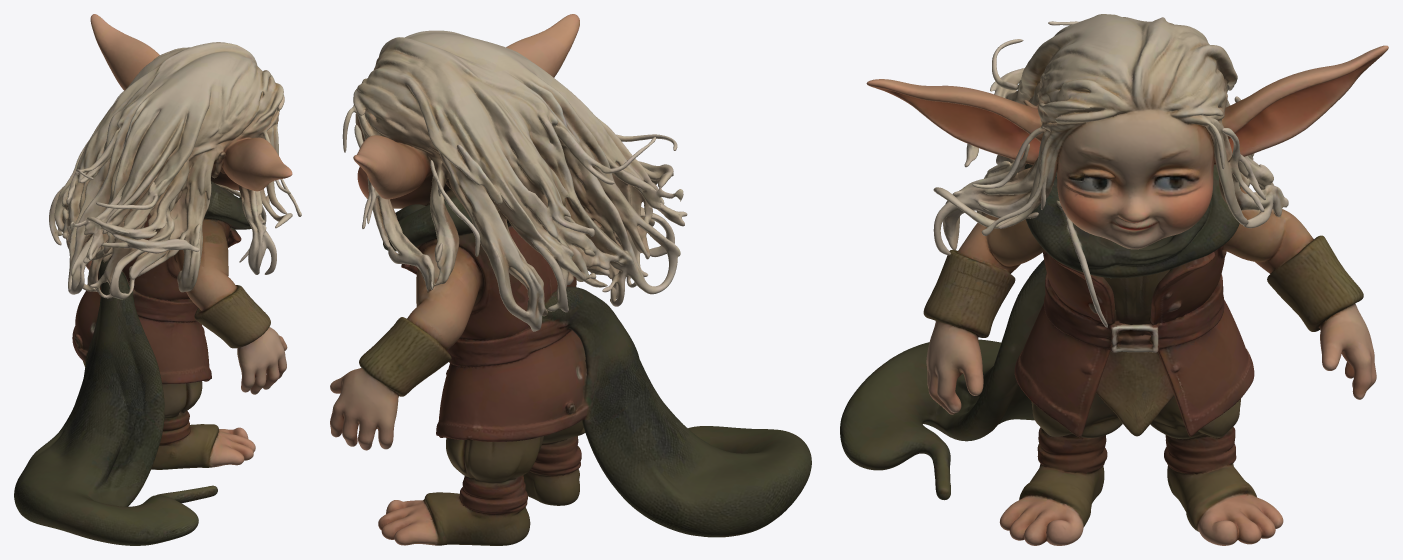
The model's file is detailed_realistic_model_houseelf_01.glb.
The picture shows the model from 3 angles, left to right: view 1: azimuth 30°, elevation 25°; view 2: azimuth 150°, elevation 25°; view 3: azimuth 270°, elevation 25°; orthographic projection. The views are drawn at different scales.
Parts seen in each view (by area): view 1: tripo_node_0ab827da-892c-44e2-ac3e-0f6ec1428e2a; view 2: tripo_node_0ab827da-892c-44e2-ac3e-0f6ec1428e2a; view 3: tripo_node_0ab827da-892c-44e2-ac3e-0f6ec1428e2a.
Boxes of the visible parts, x1,y1,x2,y2 form: tripo_node_0ab827da-892c-44e2-ac3e-0f6ec1428e2a: (14,14,301,545); tripo_node_0ab827da-892c-44e2-ac3e-0f6ec1428e2a: (330,14,811,545); tripo_node_0ab827da-892c-44e2-ac3e-0f6ec1428e2a: (840,14,1388,545).
Size of the model in its own units: 0.8164 by 1 by 0.948.
Materials: 1 (1 with a texture image).
